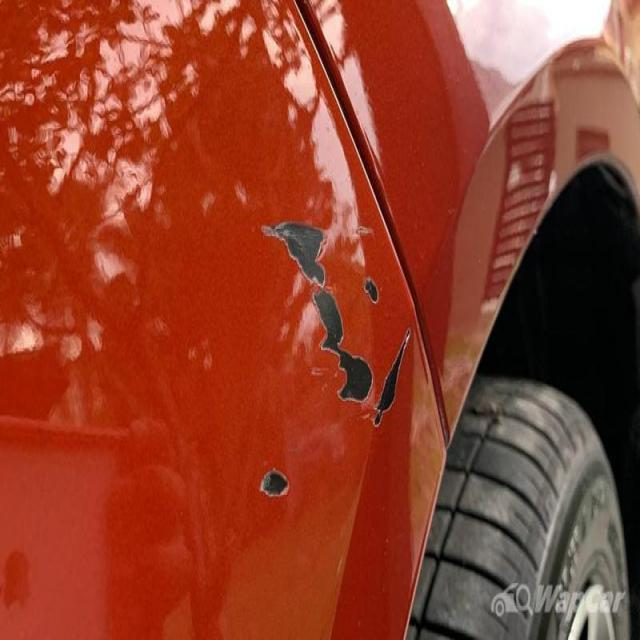scratch: (234, 201, 434, 528)
